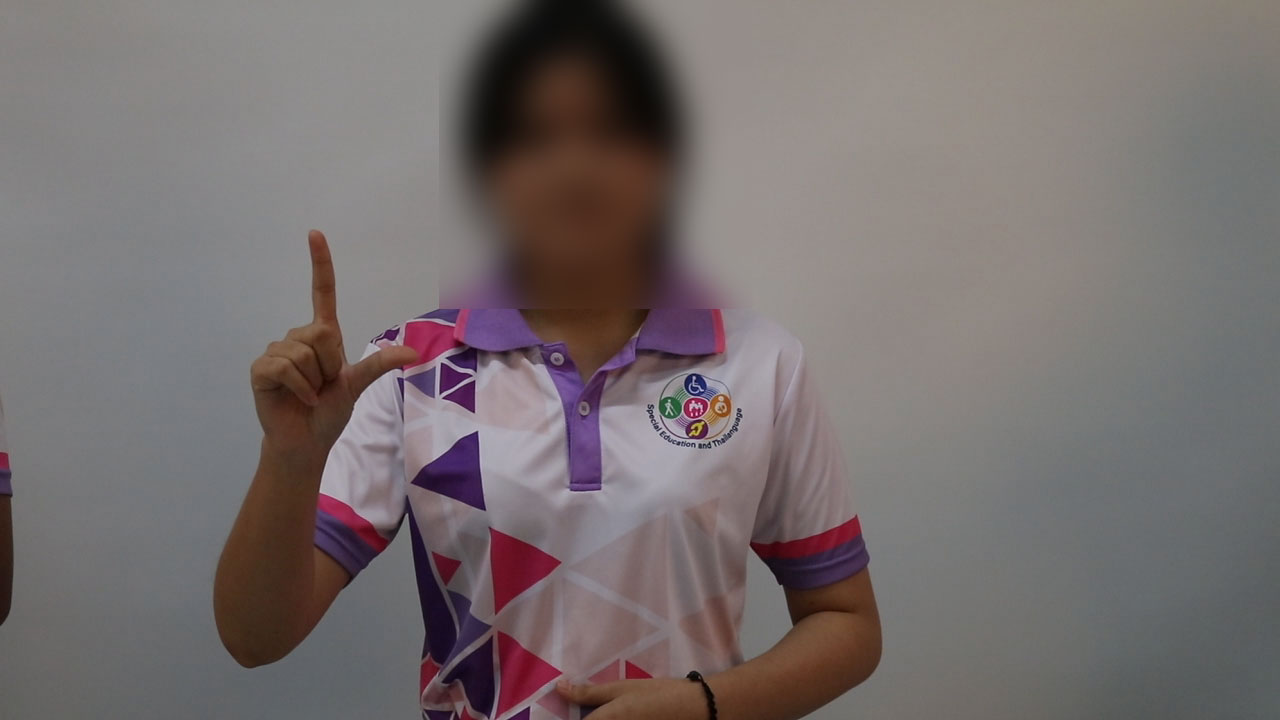lor: (232, 223, 429, 503)
